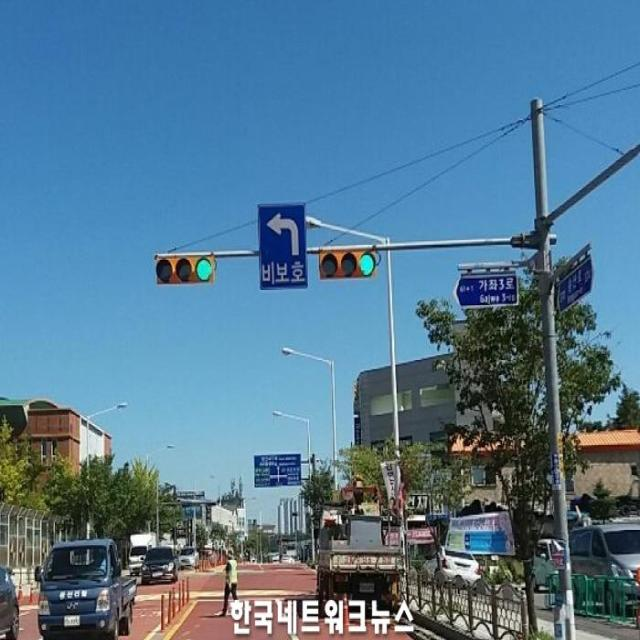Green_light: (150, 246, 222, 291)
